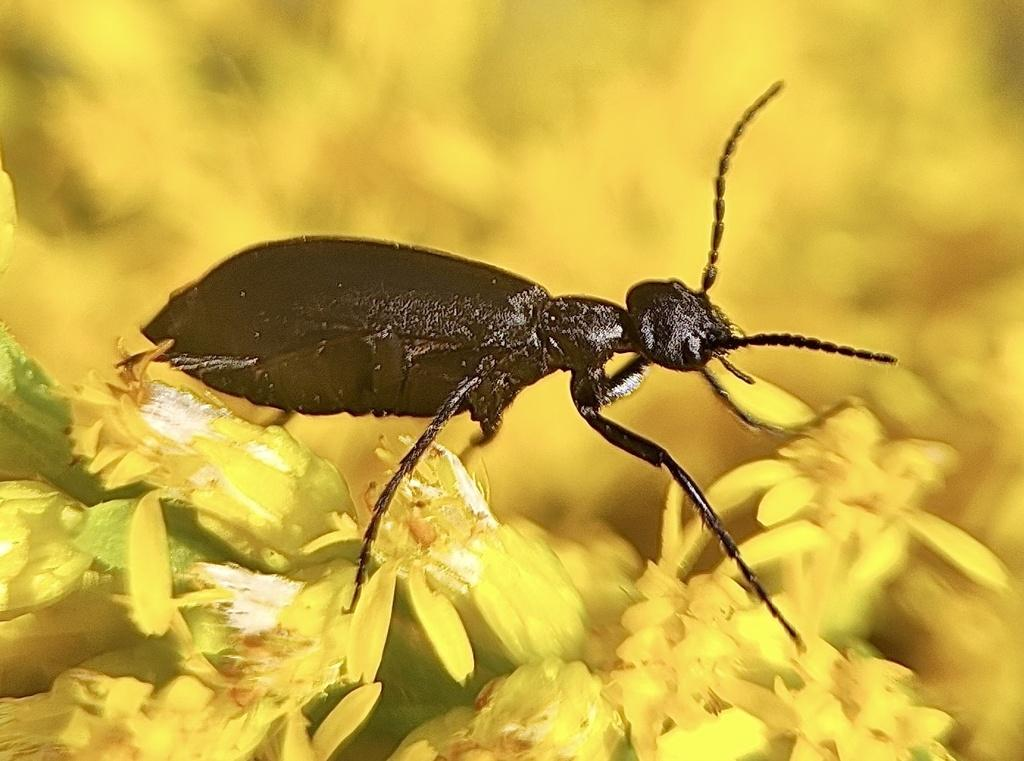blister_beetle: (53, 5, 997, 734)
